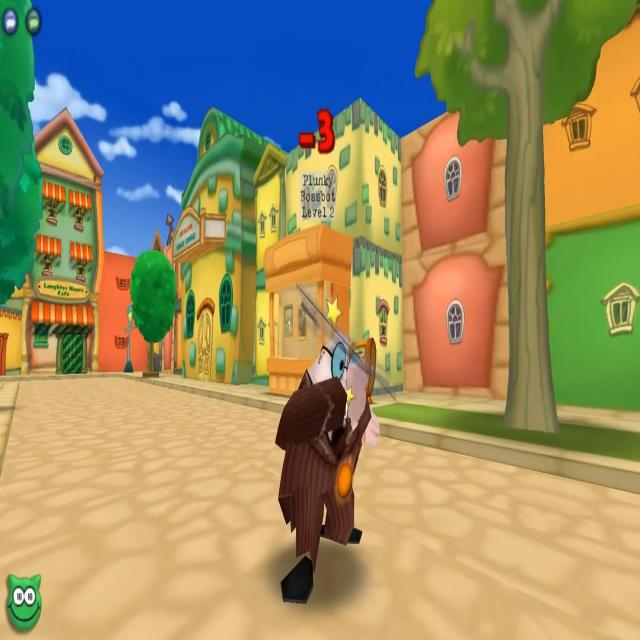flunky: (272, 169, 380, 605)
